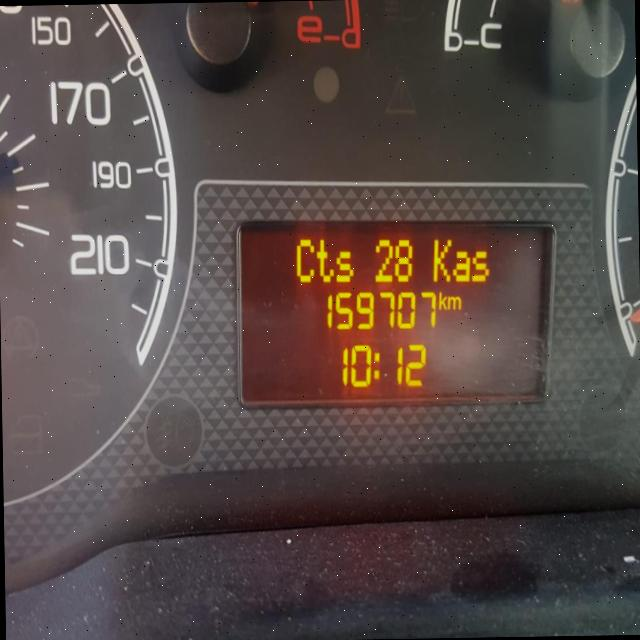odometer: (232, 212, 560, 410)
